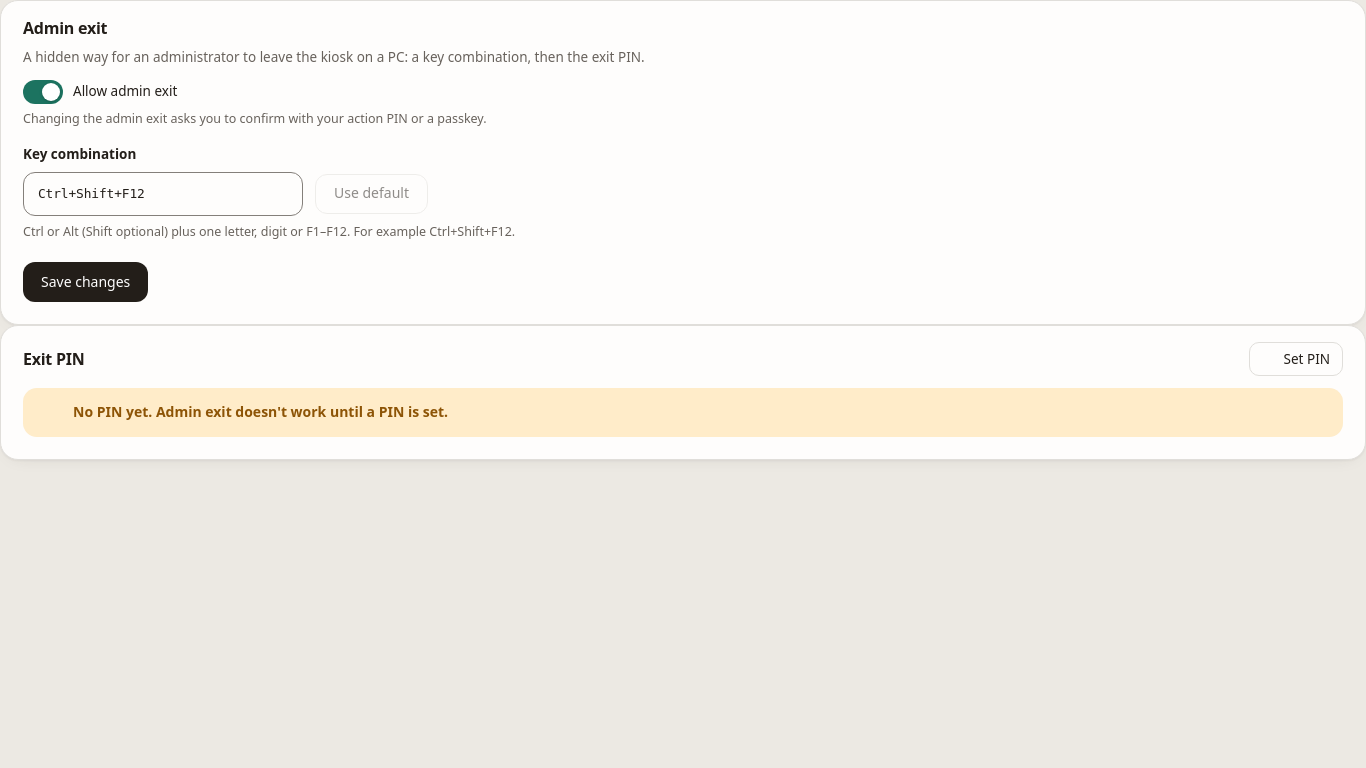
Scenario: Settings → Admin exit (settings:get / update / setExitPin / clearExitPin) › cancelling the step-up dialog keeps the PIN dialog open with the reason
Click the button "Set PIN".
click(1296, 359)  # box [1249, 342, 1343, 376]
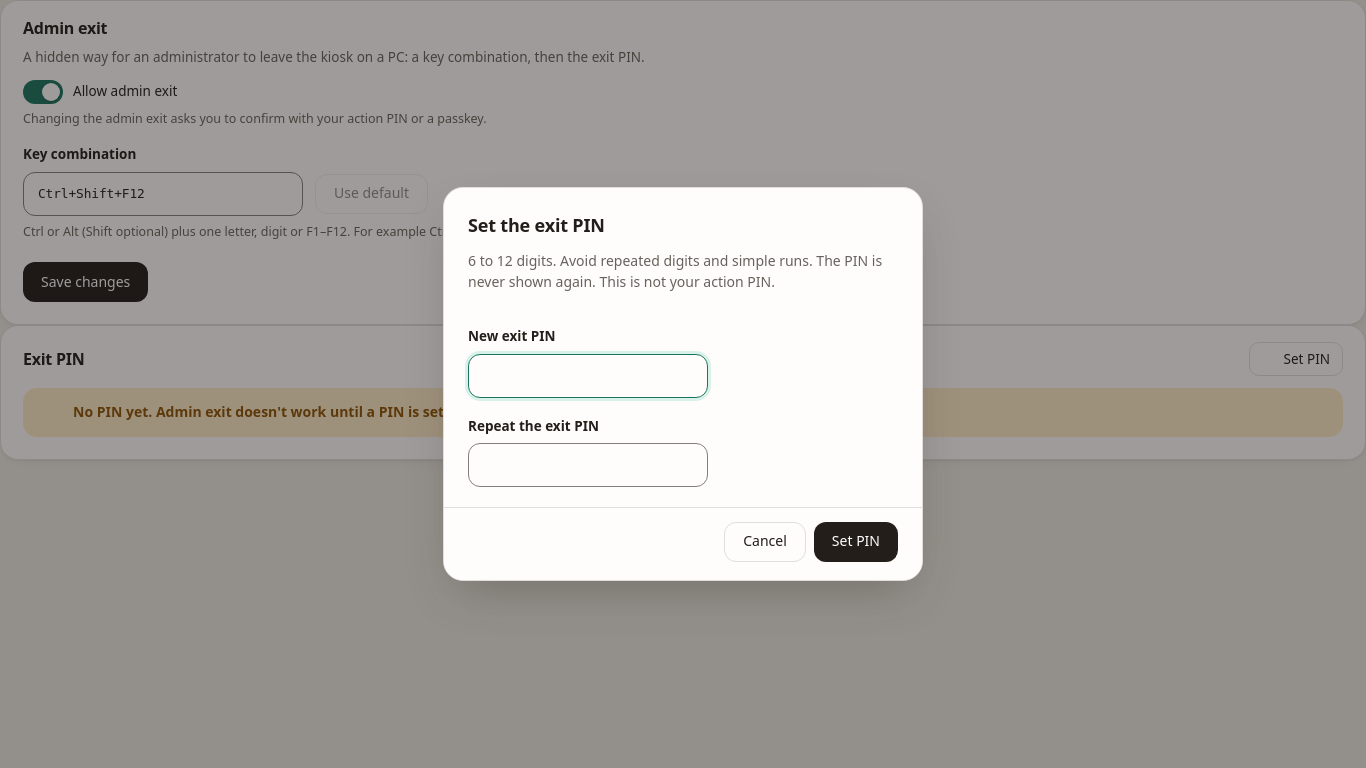
Type "246813" into the password field labelled "New exit PIN".
click(588, 376); type("246813")  # box [468, 354, 708, 398]
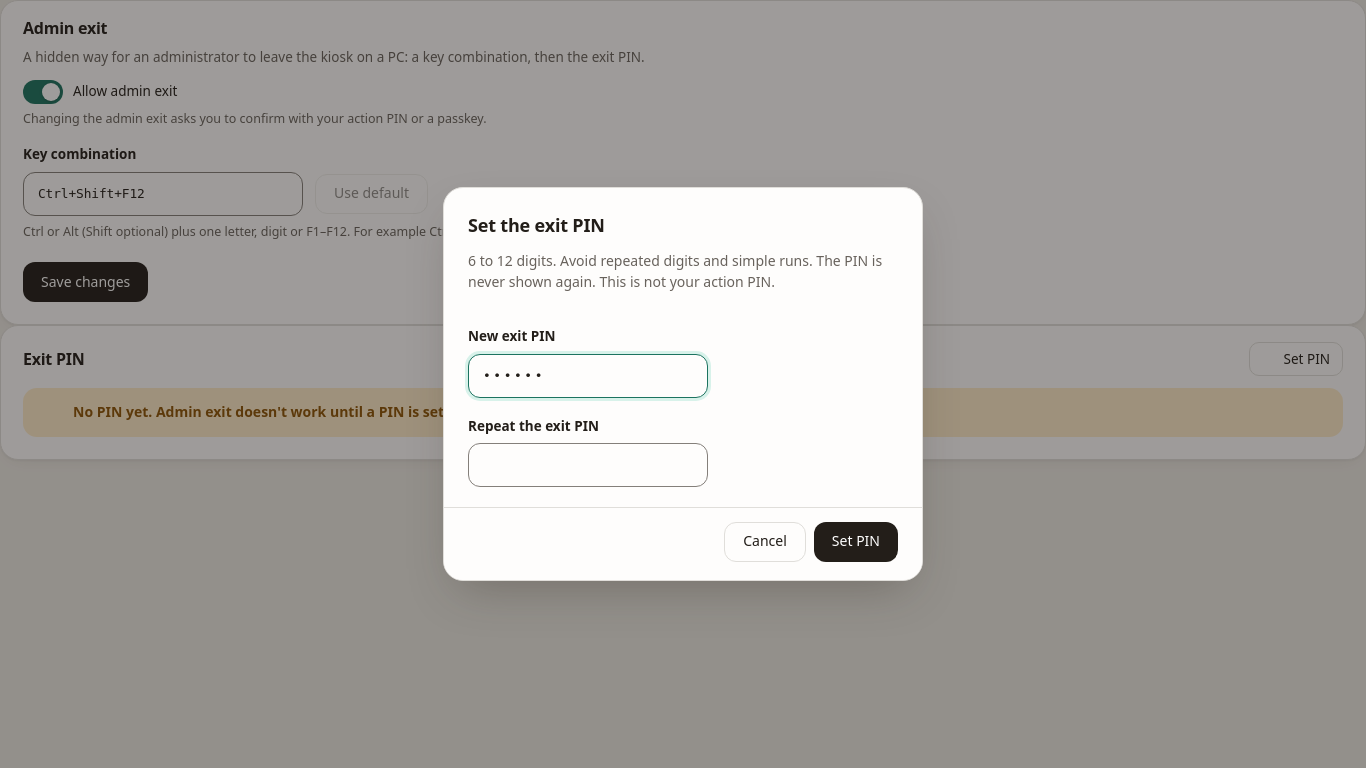
Type "246813" into the password field labelled "Repeat the exit PIN".
click(588, 465); type("246813")  # box [468, 443, 708, 487]
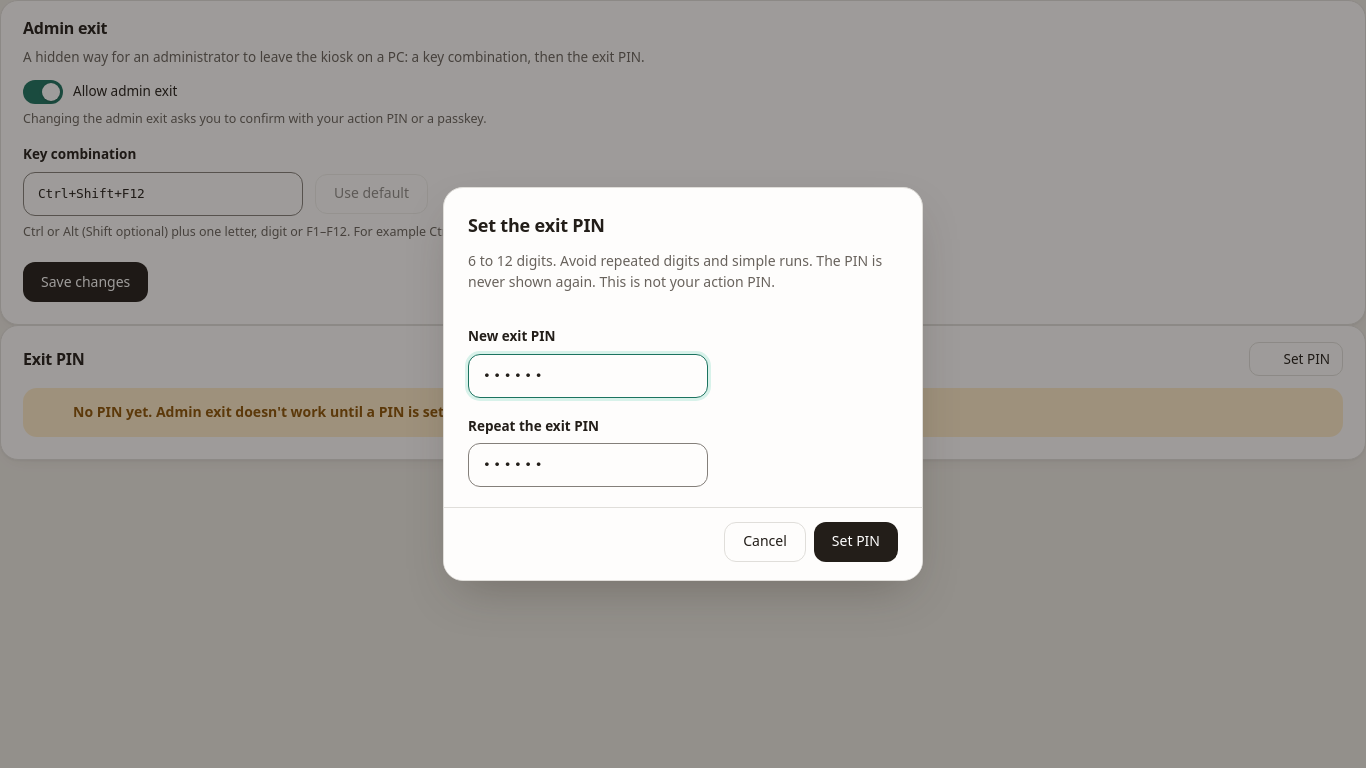
Click the button "Set PIN".
click(856, 542)  # box [814, 522, 898, 562]
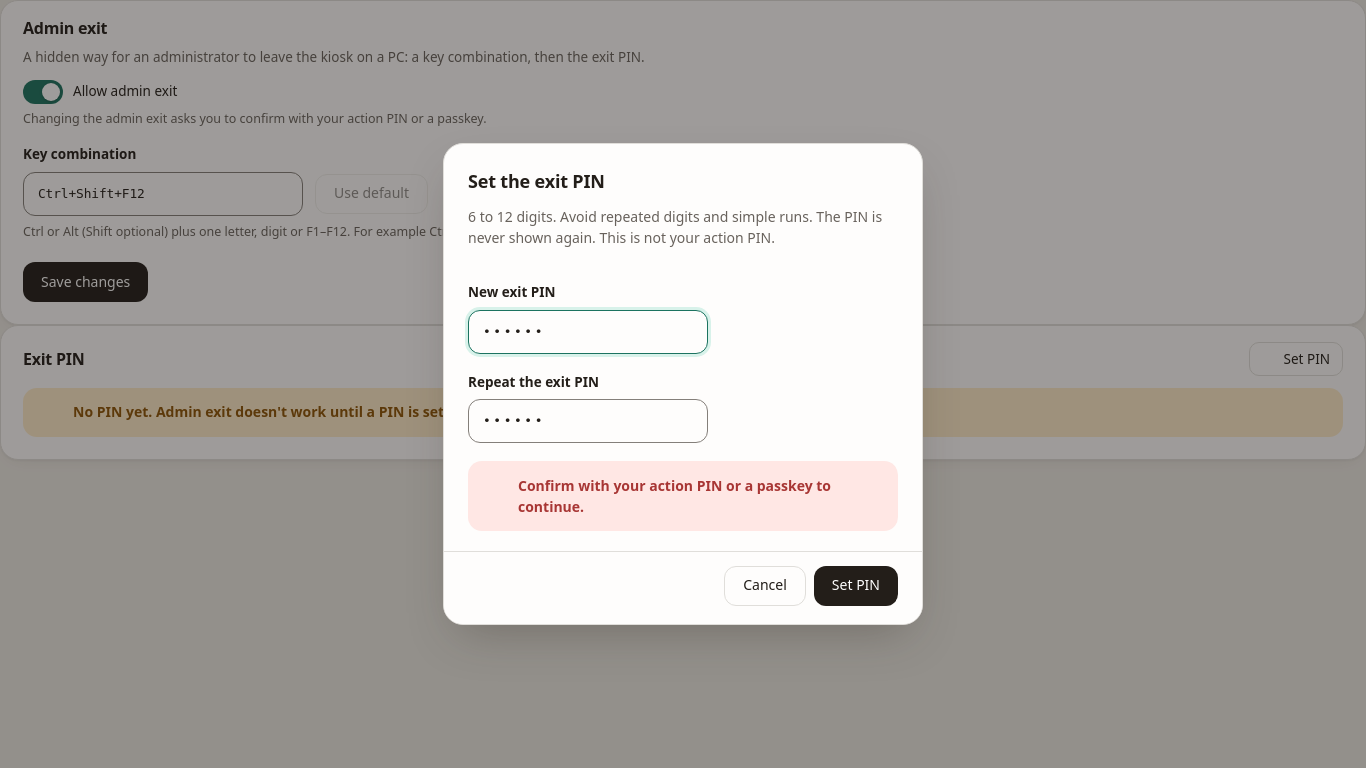
Result: the text "Confirm with your action PIN or a passkey to continue." is shown at [518, 475, 882, 517]
